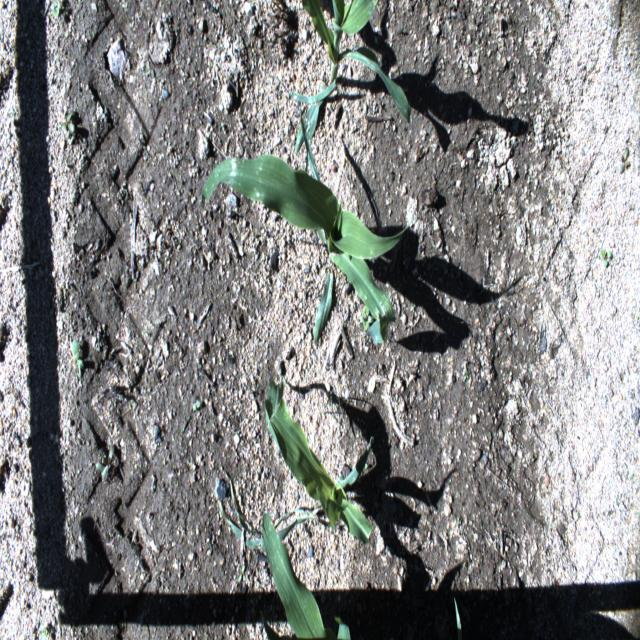crop: (201, 109, 430, 346), (217, 377, 375, 549), (269, 0, 410, 156), (261, 512, 351, 640), (454, 599, 463, 639)
weed: (95, 445, 115, 482), (324, 391, 342, 426), (71, 338, 83, 378), (359, 303, 374, 331), (61, 109, 75, 133), (620, 144, 630, 172), (600, 248, 613, 268), (50, 0, 61, 17), (237, 563, 246, 582), (192, 400, 202, 412)
